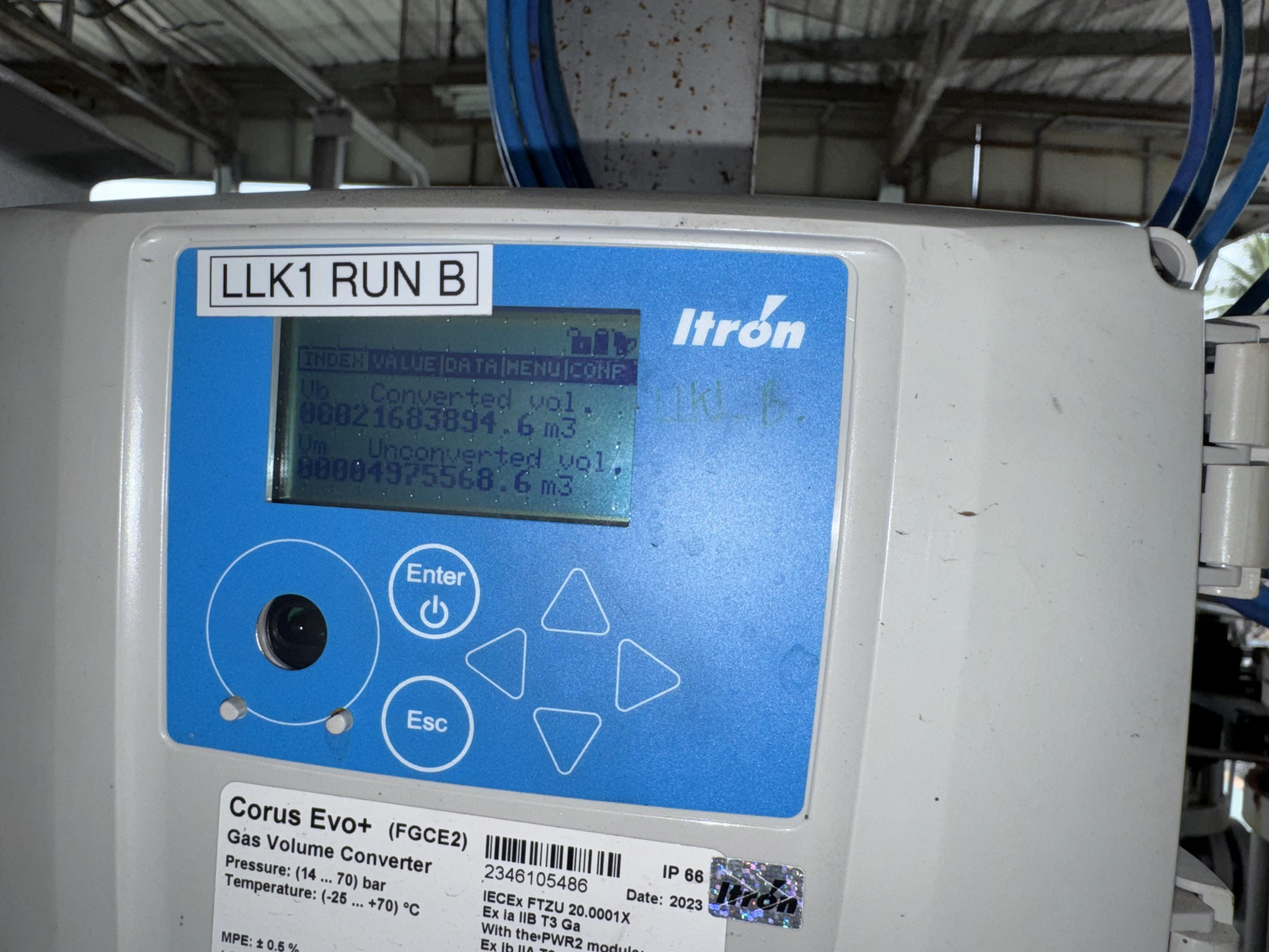digital_screen: (265, 292, 641, 527)
